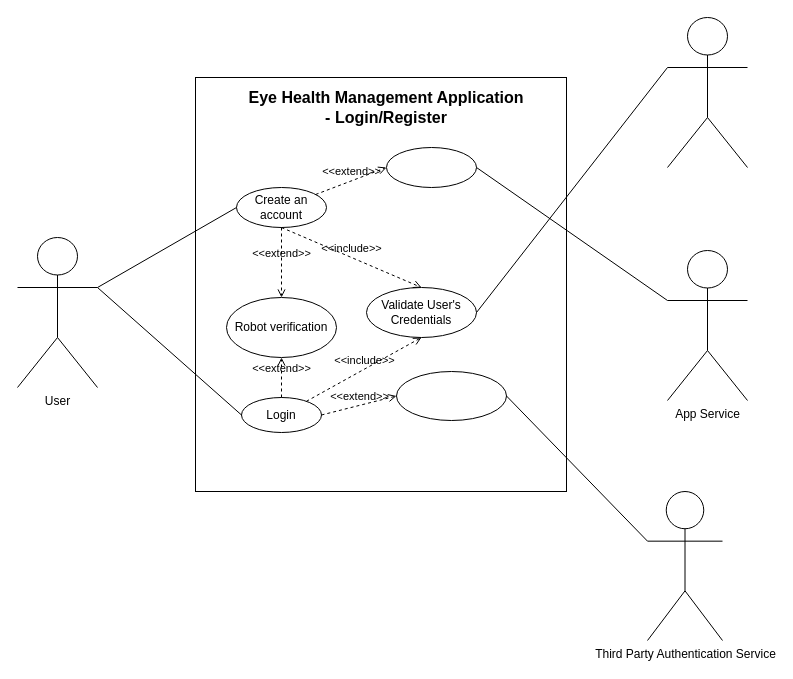
Some shapes in this 793 by 679 pixel diagram are drawn without their labels. The box of each missing label's shape, as (x1, y1, x2, y2) in pixels:
Database: (666, 16, 748, 168)
Email/SMS verification: (386, 146, 476, 188)
Two-Factor Authentication: (396, 370, 506, 420)
